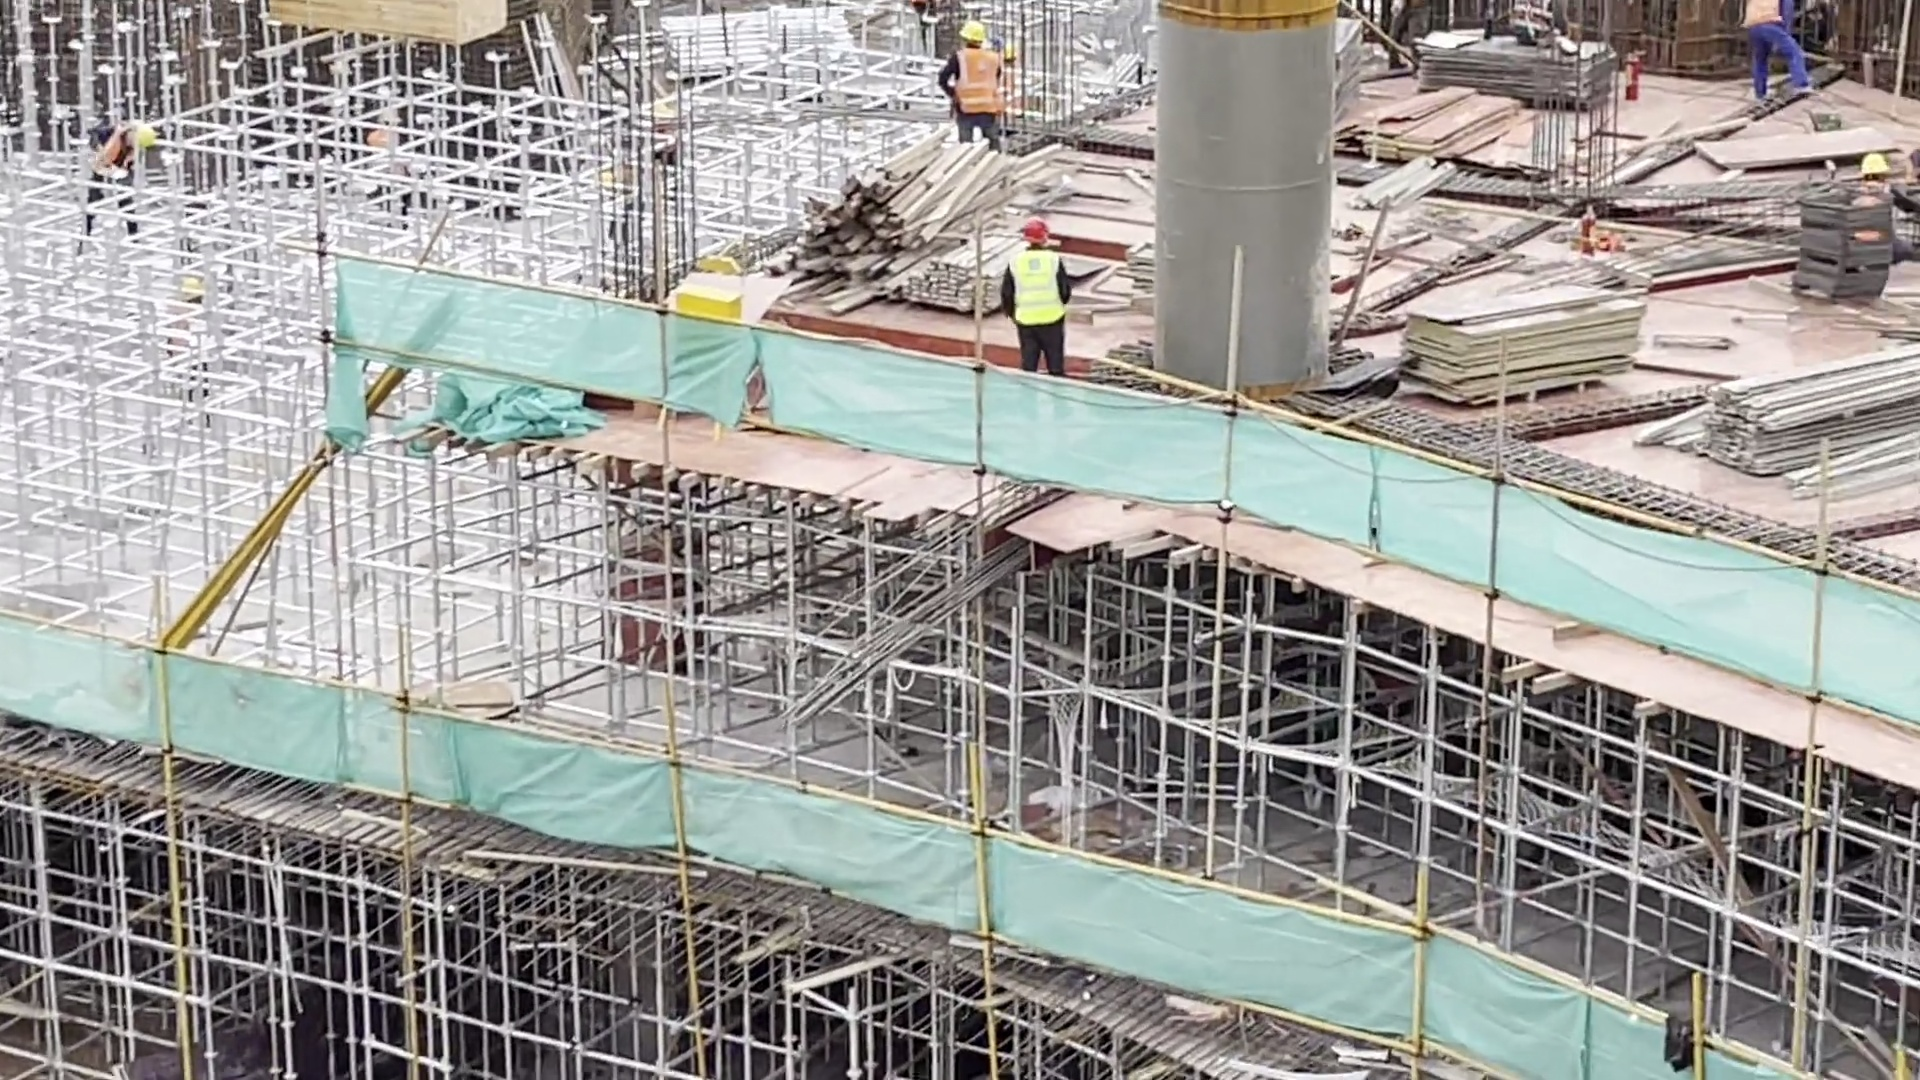board: (1403, 275, 1648, 398), (1418, 41, 1618, 101)
ebox: (674, 265, 744, 367)
helmet: (956, 20, 986, 45), (1023, 220, 1049, 248), (129, 120, 149, 142)
person: (1003, 219, 1068, 379), (939, 16, 1014, 152), (80, 113, 144, 249), (1741, 1, 1811, 105)
vest: (1007, 252, 1066, 327), (951, 49, 1007, 122), (93, 131, 126, 193), (1748, 1, 1793, 34)
wood: (758, 127, 1040, 290), (1711, 343, 1920, 472)
